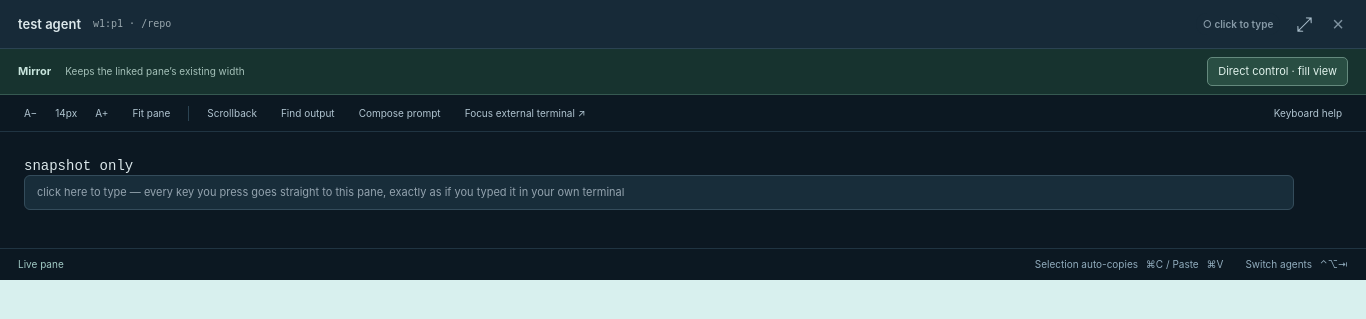
Scenario: explicit Direct control mode › keeps the snapshot default, acquires only after the resize action, and releases when returning to mirror
This screenshot has width=1366, height=319.
Expected: the text "snapshot only" is shown, [24,156,133,179]
Click the button "Direct control · fill view" at coordinates (1278, 72), box [1207,57,1348,86]
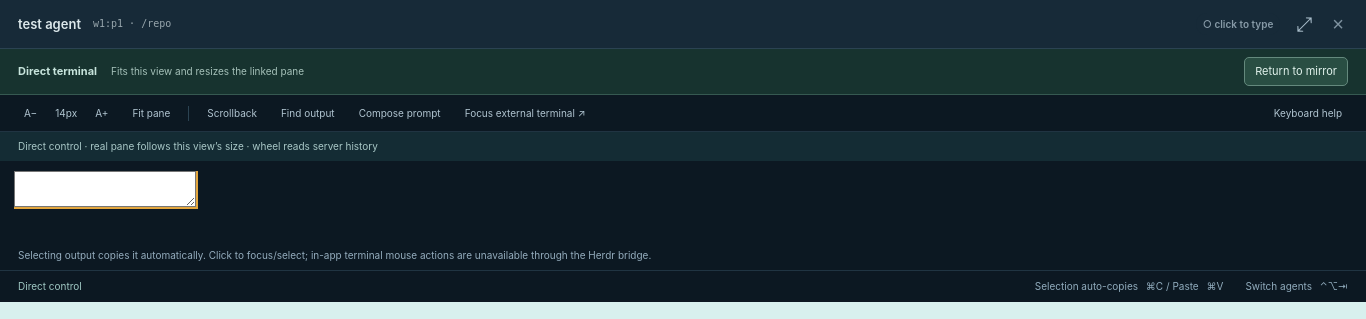
Expected: the button "Find output" is disabled, [275,102,341,124]
Now the text "snapshot only" is gone
Now the element named "Direct terminal control" is shown, box [14,171,196,207]
Click the button "Return to mirror" at coordinates (1296, 72), box [1244,57,1348,86]
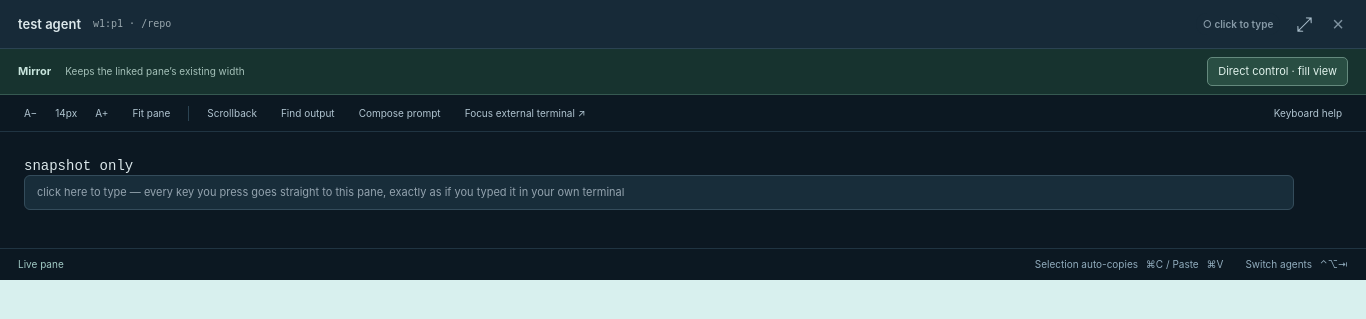
Now the text "snapshot only" is shown, box [24,156,133,179]
